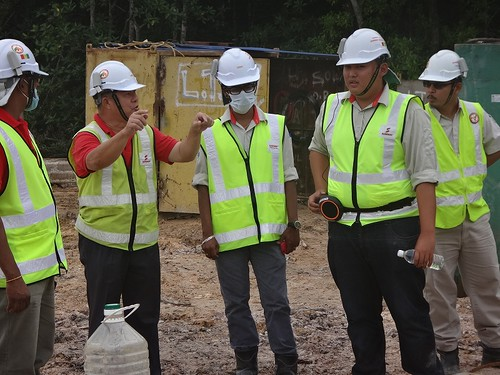Helmet: (84, 57, 154, 135), (1, 35, 53, 128), (211, 47, 267, 129), (336, 25, 395, 102), (415, 48, 470, 122)
Reflective vest: (321, 88, 427, 228), (66, 119, 170, 260), (196, 111, 296, 253), (1, 115, 71, 289), (422, 98, 490, 233)
